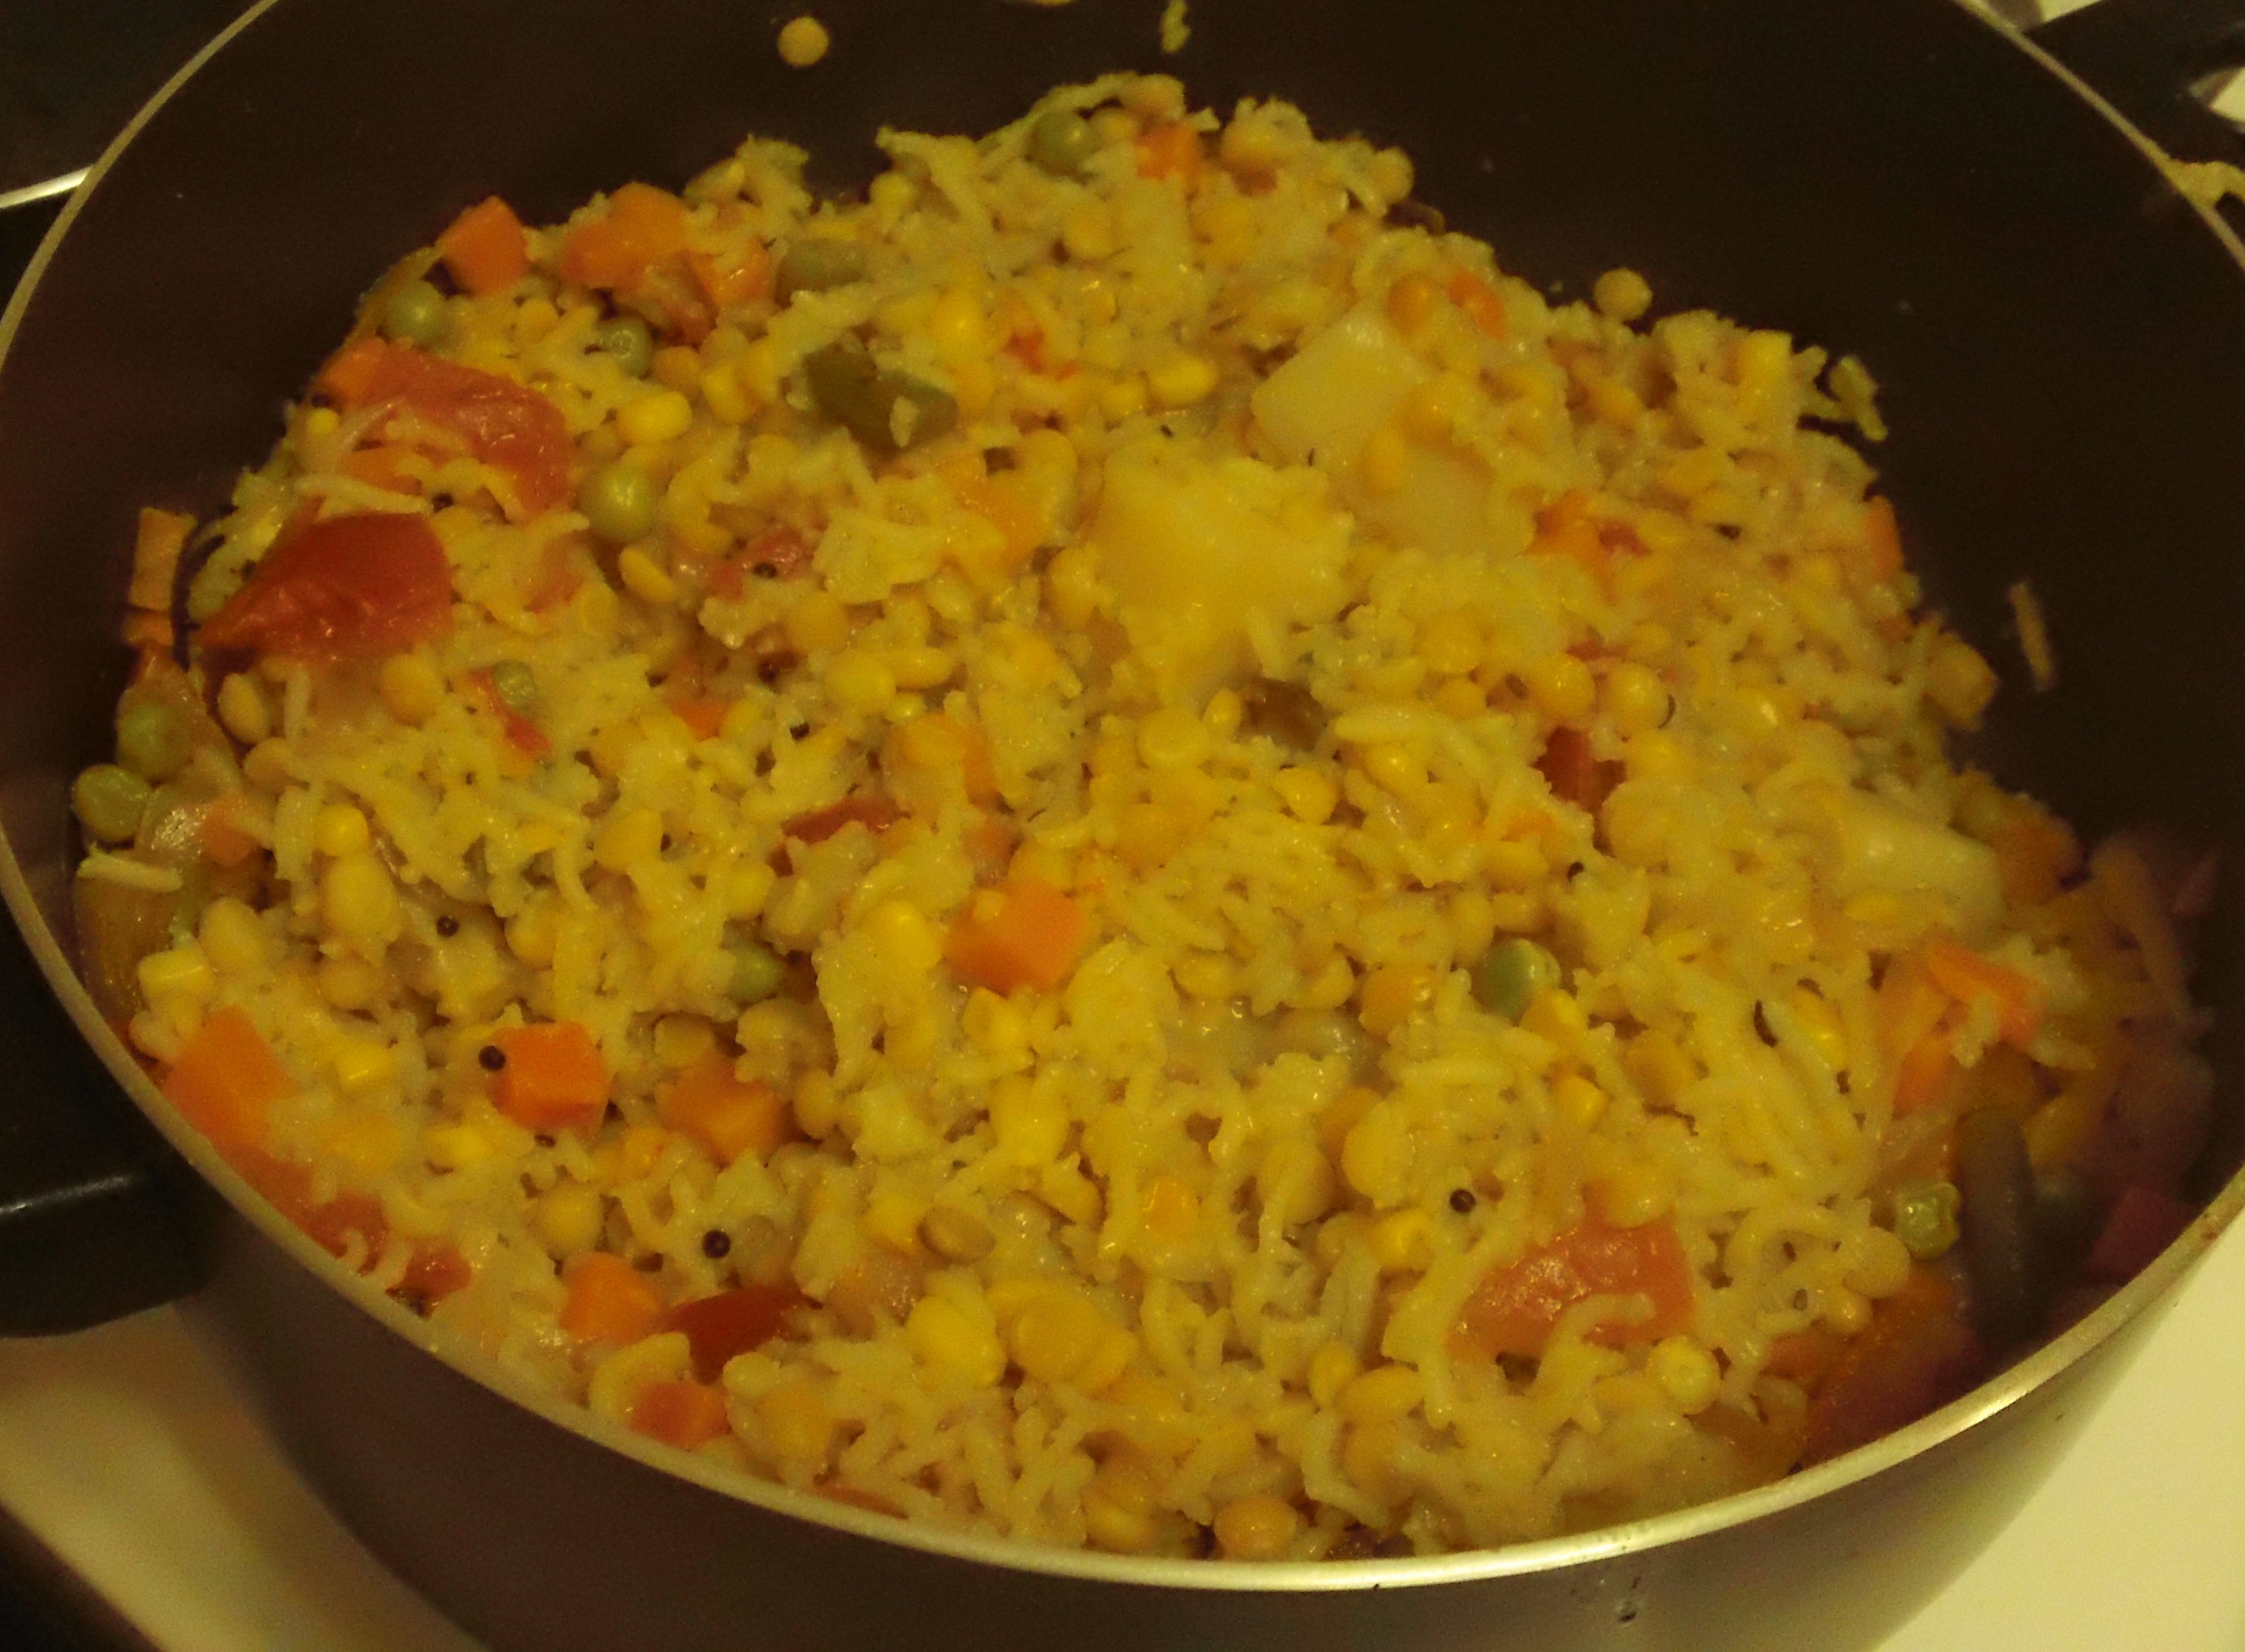khichuri: (138, 73, 2149, 1506)
